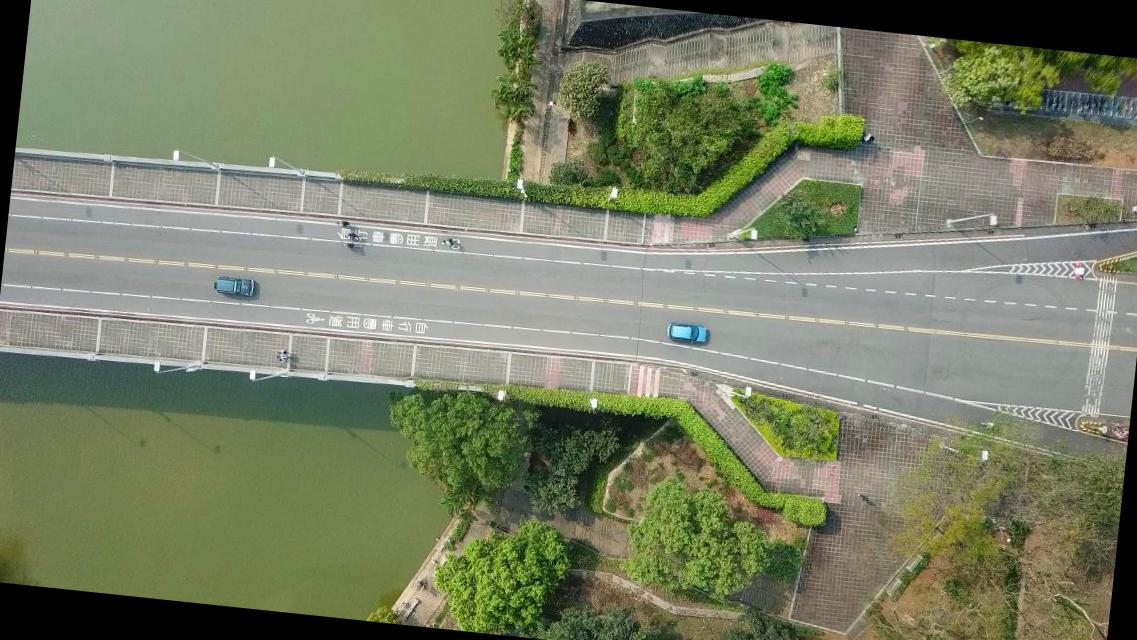vehicle: (212, 275, 255, 298), (666, 322, 708, 344)
